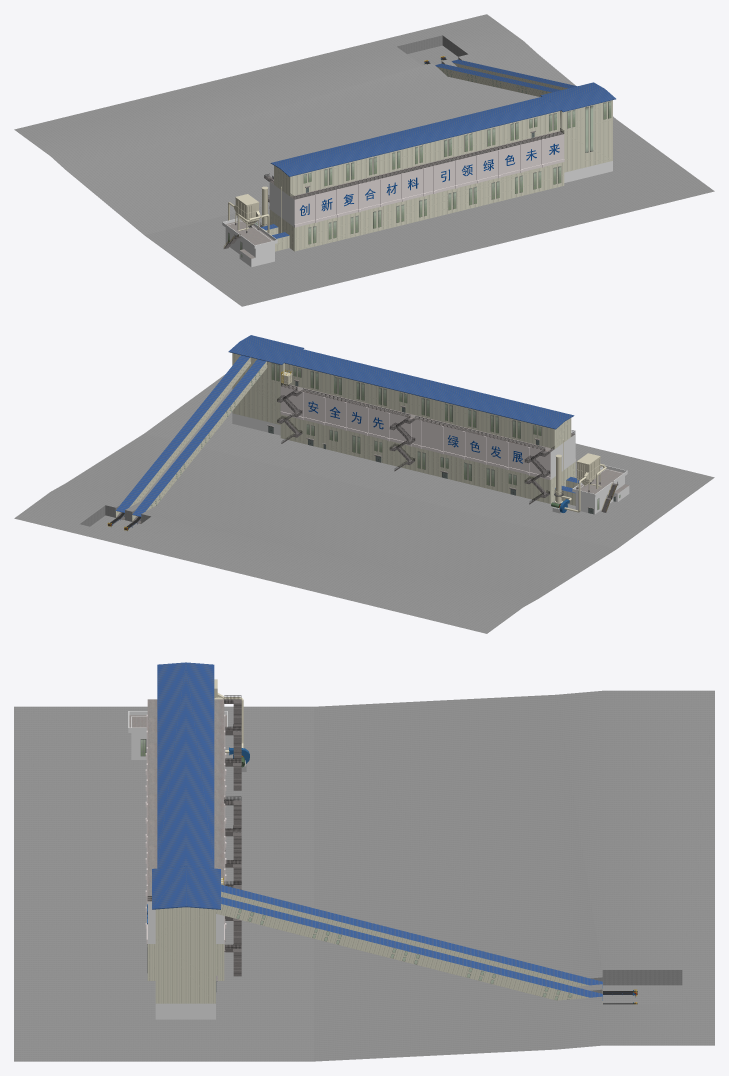
Rendered from 碎石配料间.gltf.
3 renders of one model, top to bottom at view 1: azimuth 30°, elevation 25°; view 2: azimuth 150°, elevation 25°; view 3: azimuth 270°, elevation 25°, orthographic. The views are drawn at different scales.
Visible parts, largest first — view 1: SS-louban, SS-dingban, SS-shouchengqiD; view 2: SS-louban, SS-dingban, SS-shouchengqiD; view 3: SS-louban, SS-dingban.
Boxes of the visible parts, <box> form: SS-louban: <box>14,14,714,306</box>; SS-dingban: <box>223,59,615,267</box>; SS-shouchengqiD: <box>228,186,269,233</box>; SS-louban: <box>14,374,714,633</box>; SS-dingban: <box>115,335,629,523</box>; SS-shouchengqiD: <box>554,453,606,512</box>; SS-louban: <box>14,690,714,1061</box>; SS-dingban: <box>131,662,602,1019</box>.
Size of the model in its own units: 222 by 37.5 by 185.
79 materials, 18 textured.
